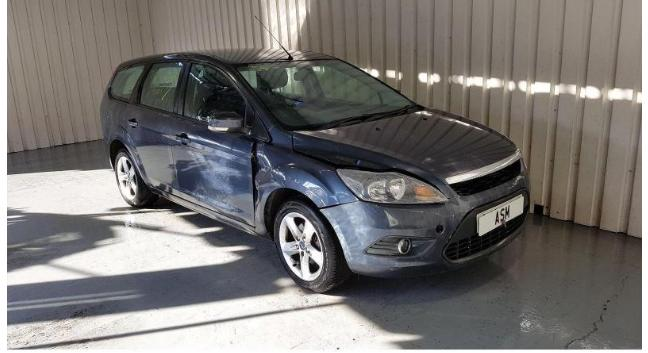Back-door: (121, 62, 187, 195)
Back-wheel: (114, 149, 151, 208)
Back-window: (141, 64, 182, 112), (111, 63, 147, 104)
Fender: (253, 123, 358, 241)
Front-bumper: (319, 172, 530, 278)
Front-door: (171, 62, 256, 228)
Front-wheel: (273, 197, 353, 294)
Front-window: (184, 64, 246, 126)
Grille: (450, 158, 520, 197)
Headlight: (336, 168, 448, 205)
Hood: (293, 108, 525, 198)
License-plate: (477, 194, 524, 236)
Mirror: (208, 111, 271, 142)
Quarter-panel: (100, 93, 129, 171)
Rocker-panel: (150, 186, 257, 235)
Roof: (162, 47, 338, 65)
Windshield: (232, 58, 425, 131)
